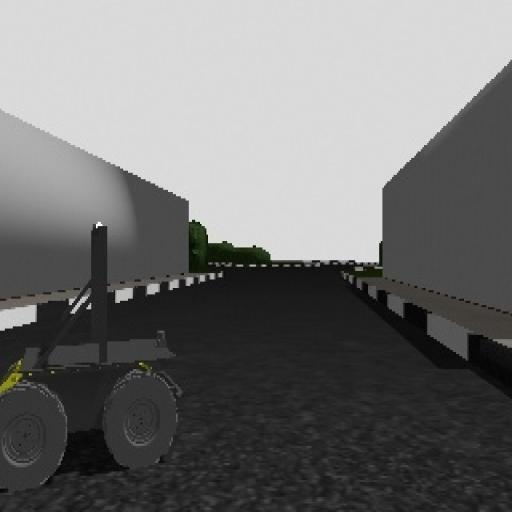huskya200: (0, 198, 188, 494)
